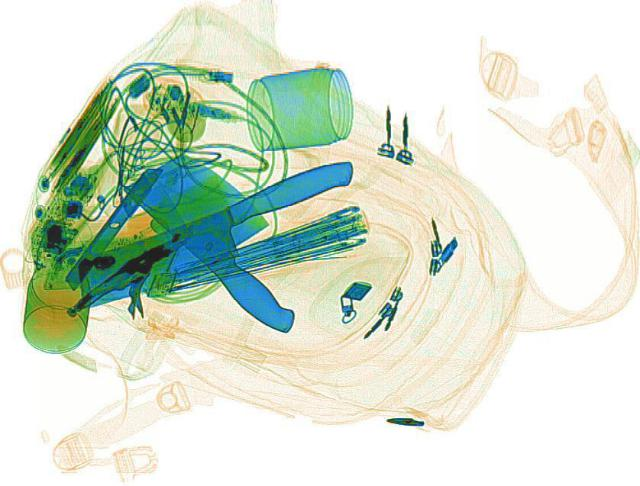Knife: (48, 156, 382, 310), (112, 147, 352, 335)
